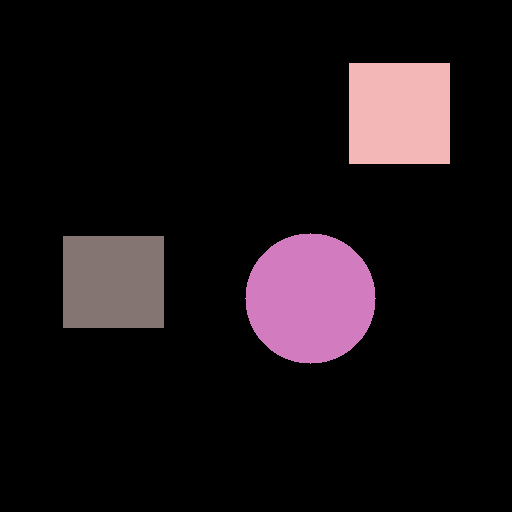circle: (245, 233, 375, 363)
square: (349, 63, 449, 163), (63, 236, 163, 327)
